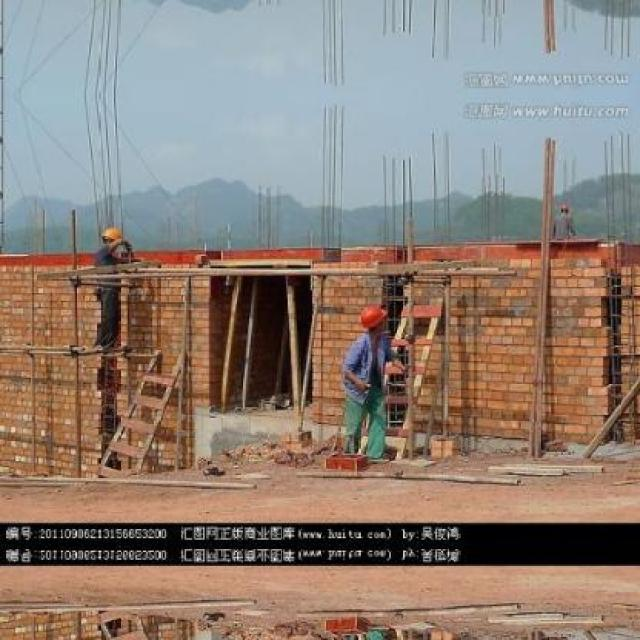helmet: (357, 305, 391, 335), (97, 226, 118, 251), (558, 199, 571, 213)
